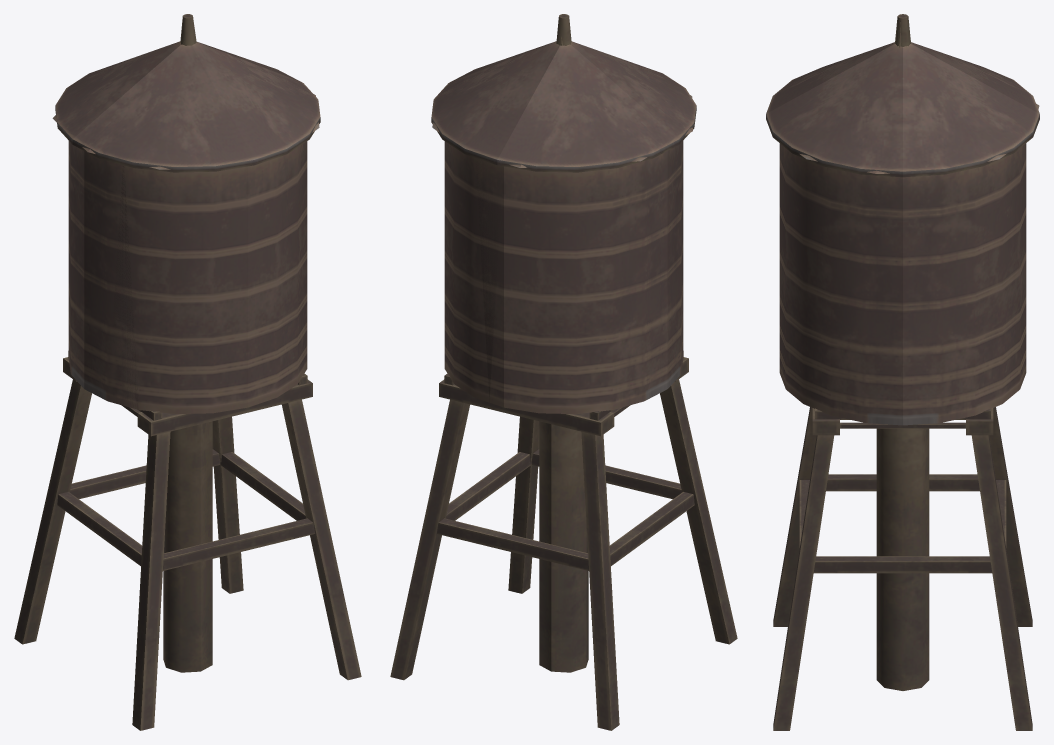
File: Water_tower02.fbx
3 views of the same model, side by side, from view 1: azimuth 30°, elevation 25°; view 2: azimuth 150°, elevation 25°; view 3: azimuth 270°, elevation 25° (orthographic). The views are drawn at different scales.
Visible parts, largest first — view 1: Water_tower02, _000_static_Water_tower02__3_; view 2: Water_tower02, _000_static_Water_tower02__3_; view 3: Water_tower02, _000_static_Water_tower02__3_.
Boxes of the visible parts, x1,y1,x2,y2 form: Water_tower02: (14,14,361,730); _000_static_Water_tower02__3_: (52,15,319,672); Water_tower02: (390,14,737,730); _000_static_Water_tower02__3_: (432,14,692,667); Water_tower02: (766,14,1039,730); _000_static_Water_tower02__3_: (800,16,1039,424).
Bounding box in the file's own units: 257 × 687 × 257.
